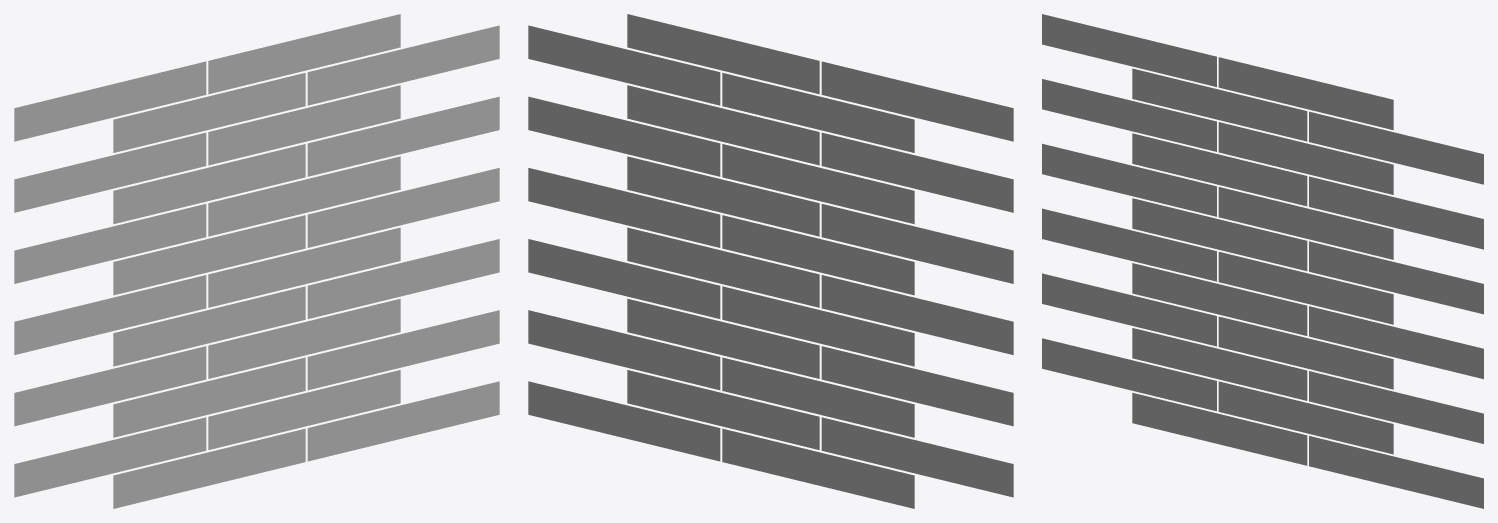
The model's file is 1x6interlocking.gltf.
The picture shows the model from 3 angles, left to right: view 1: azimuth 30°, elevation 25°; view 2: azimuth 150°, elevation 25°; view 3: azimuth 330°, elevation 25°; orthographic projection. The views are drawn at different scales.
Parts seen in each view (by area): view 1: 1x6interlocking; view 2: 1x6interlocking; view 3: 1x6interlocking.
Boxes of the visible parts, x1,y1,x2,y2 form: 1x6interlocking: [14, 14, 499, 508]; 1x6interlocking: [528, 14, 1013, 508]; 1x6interlocking: [1042, 14, 1483, 508].
Size of the model in its own units: 385 by 322 by 0.
Materials: 24 (24 with a texture image).
